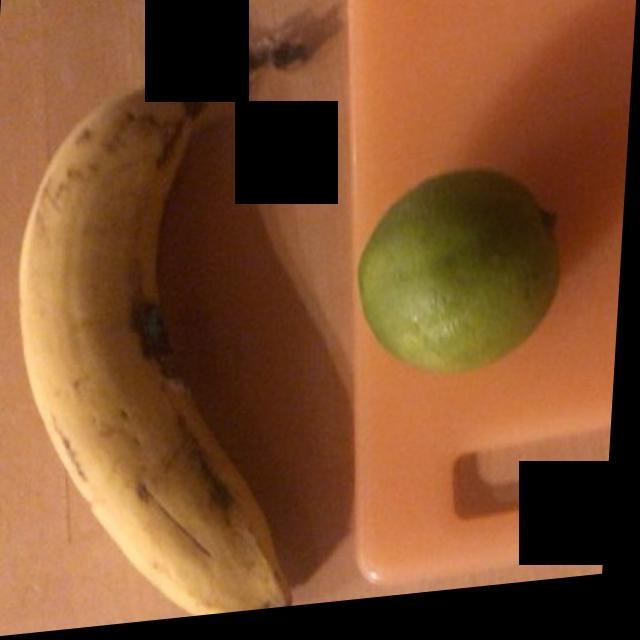banana: (27, 42, 298, 608)
